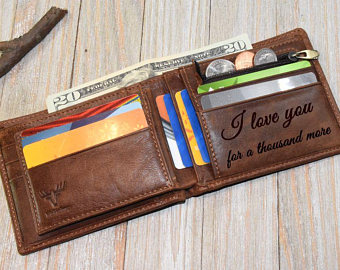monedero: (1, 26, 339, 257)
